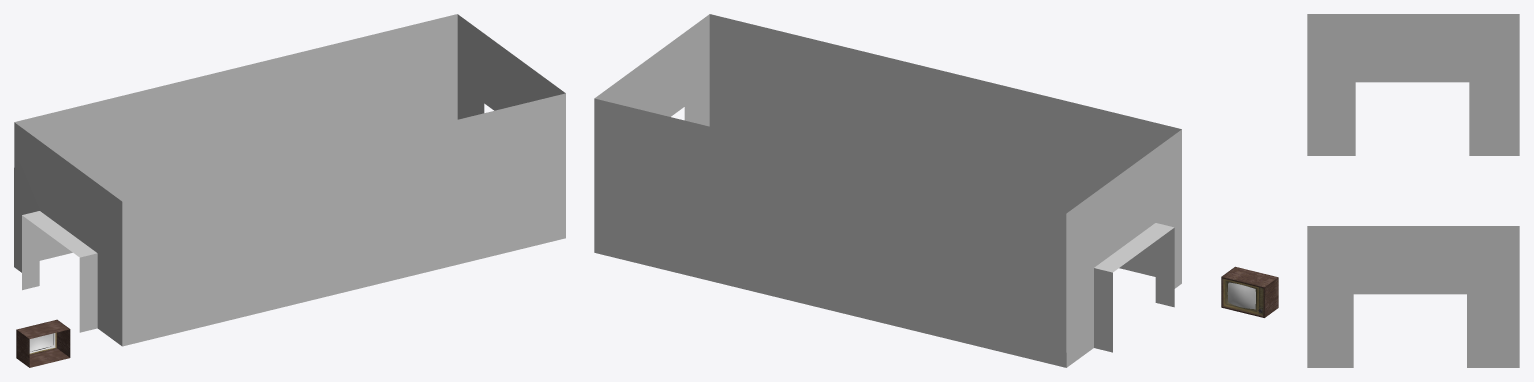
Rendered from Experemetnal room.fbx.
3 views of the same model, side by side, from view 1: azimuth 30°, elevation 25°; view 2: azimuth 150°, elevation 25°; view 3: azimuth 270°, elevation 25° (orthographic). The views are drawn at different scales.
Parts seen in each view (by area): view 1: SecretLab, TV; view 2: SecretLab, TV, Screen; view 3: SecretLab.
Part boxes in pixels (bbox=[...]): SecretLab: bbox=[14, 14, 565, 346]; TV: bbox=[16, 319, 70, 367]; SecretLab: bbox=[594, 14, 1181, 367]; TV: bbox=[1221, 266, 1278, 317]; Screen: bbox=[1227, 282, 1255, 309]; SecretLab: bbox=[1307, 14, 1519, 367].
Bounding box in the file's own units: 2665 × 690 × 935.
Materials: 3 (1 with a texture image).
